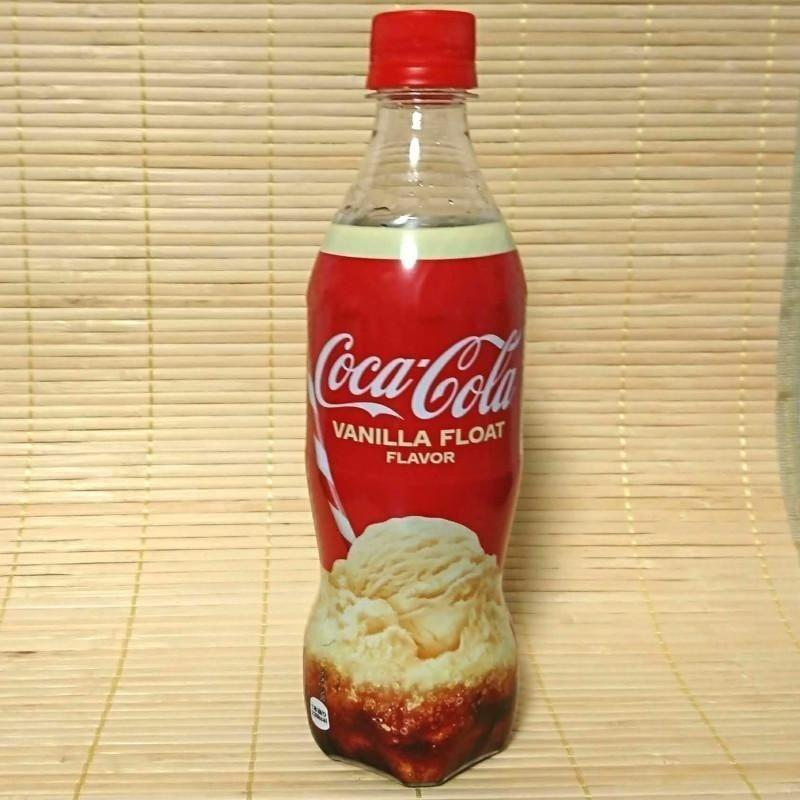bottle-plastic: (294, 3, 532, 795)
